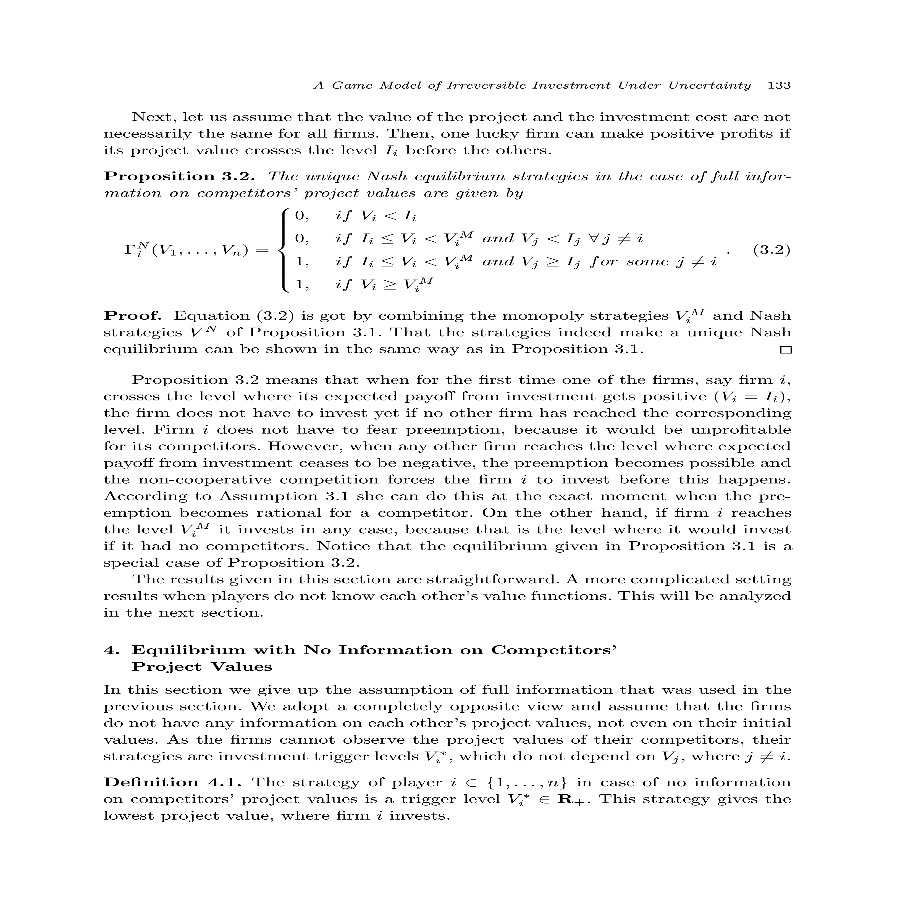eq: (122, 203, 719, 297)
